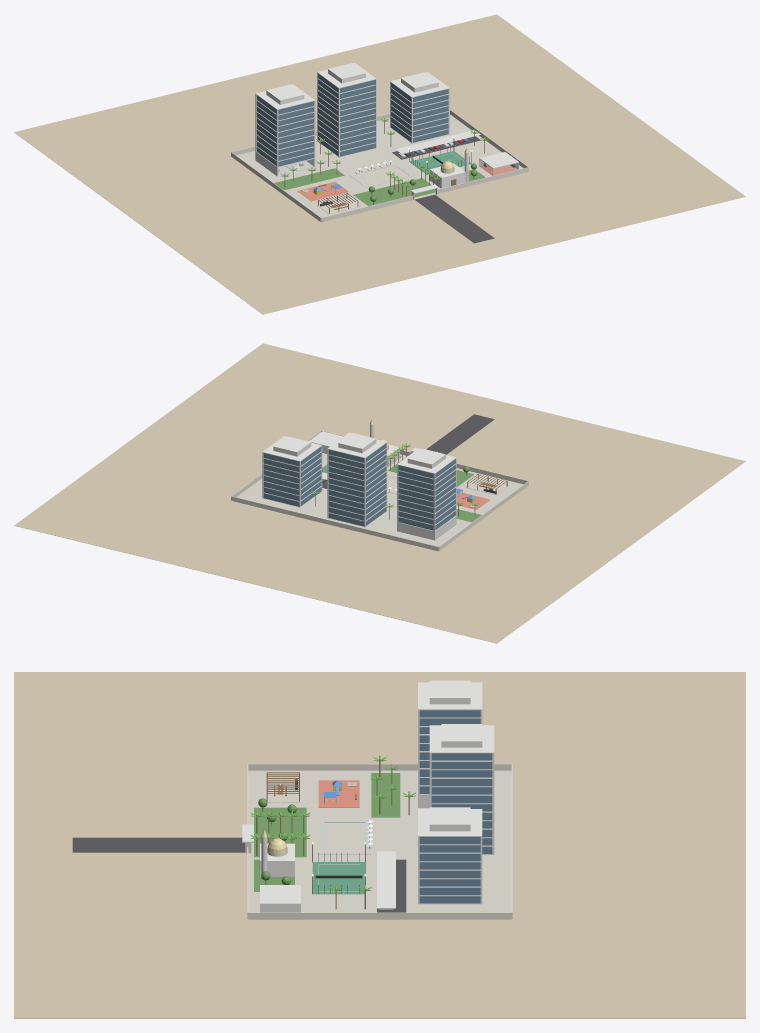
3 views of the same model, one above another, from view 1: azimuth 30°, elevation 25°; view 2: azimuth 150°, elevation 25°; view 3: azimuth 270°, elevation 25° (orthographic). The views are drawn at different scales.
Parts seen in each view (by area): view 1: Terrain, Site_Paving, Tower_B_Glass, Tower_A_Glass, Tower_C_Glass, Entrance_Road, Garden_Lawn_Central, Garden_Lawn_West, Court_Surface, Parking_Shade, Mosque_Hall, Tower_A_Roof_Plant (+2 smaller); view 2: Terrain, Site_Paving, Tower_B_Glass, Tower_A_Glass, Tower_C_Glass, Boundary_Wall_N, Entrance_Road, Tower_A_Roof_Plant, Tower_B_Roof_Plant, Tower_C_Roof_Plant; view 3: Terrain, Site_Paving, Tower_C_Glass, Tower_B_Glass, Entrance_Road, Boundary_Wall_E, Garden_Lawn_Central, Court_Surface, Tower_A_Glass, Boundary_Wall_W, Garden_Lawn_West, Parking_Shade (+11 smaller).
Boxes of the visible parts, left/top/right/bottom form: Terrain: left=14, top=14, right=745, bottom=314; Site_Paving: left=236, top=114, right=523, bottom=217; Tower_B_Glass: left=318, top=73, right=375, bottom=156; Tower_A_Glass: left=256, top=95, right=313, bottom=166; Tower_C_Glass: left=391, top=83, right=448, bottom=142; Entrance_Road: left=415, top=194, right=494, bottom=243; Garden_Lawn_Central: left=353, top=178, right=434, bottom=206; Garden_Lawn_West: left=274, top=168, right=344, bottom=190; Court_Surface: left=409, top=151, right=471, bottom=174; Parking_Shade: left=395, top=130, right=480, bottom=154; Mosque_Hall: left=429, top=163, right=465, bottom=188; Tower_A_Roof_Plant: left=266, top=84, right=304, bottom=104; Terrain: left=14, top=343, right=745, bottom=643; Site_Paving: left=236, top=453, right=523, bottom=546; Tower_B_Glass: left=328, top=443, right=385, bottom=526; Tower_A_Glass: left=398, top=459, right=455, bottom=530; Tower_C_Glass: left=263, top=447, right=320, bottom=506; Boundary_Wall_N: left=231, top=496, right=438, bottom=551; Entrance_Road: left=426, top=414, right=494, bottom=454; Tower_A_Roof_Plant: left=407, top=448, right=445, bottom=468; Tower_B_Roof_Plant: left=338, top=433, right=376, bottom=453; Tower_C_Roof_Plant: left=273, top=436, right=311, bottom=456; Terrain: left=14, top=672, right=745, bottom=1018; Site_Paving: left=248, top=770, right=511, bottom=919; Tower_C_Glass: left=419, top=837, right=480, bottom=903; Tower_B_Glass: left=431, top=753, right=492, bottom=854; Entrance_Road: left=72, top=837, right=245, bottom=852; Boundary_Wall_E: left=248, top=912, right=511, bottom=919; Garden_Lawn_Central: left=254, top=807, right=306, bottom=857; Court_Surface: left=312, top=862, right=365, bottom=894; Tower_A_Glass: left=419, top=710, right=480, bottom=793; Boundary_Wall_W: left=248, top=764, right=511, bottom=770; Garden_Lawn_West: left=371, top=773, right=400, bottom=817; Parking_Shade: left=377, top=851, right=395, bottom=908.
Bounding box in the file's own units: 280 × 42.5 × 250.
